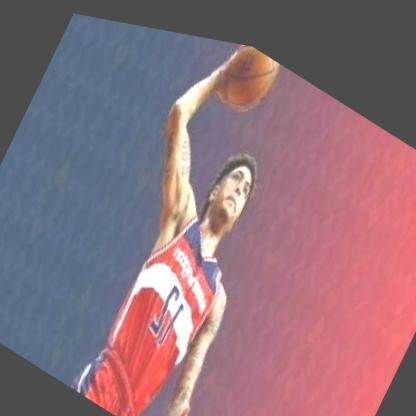basketball: (206, 30, 285, 122)
